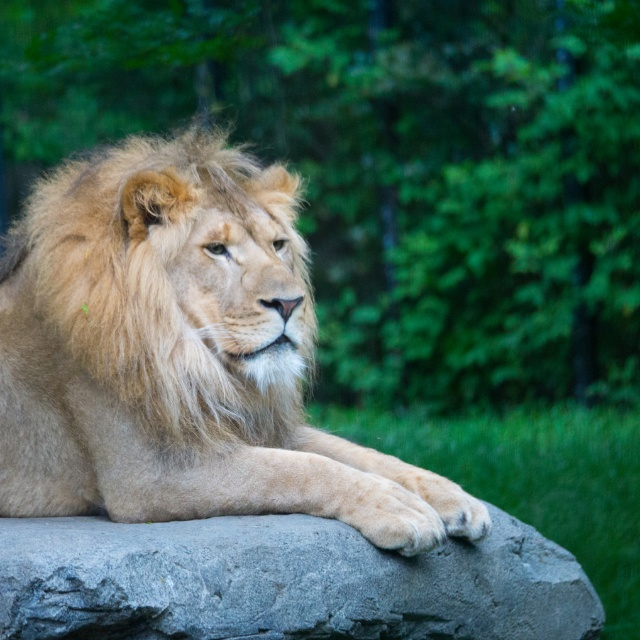Lion: (0, 110, 490, 560)
